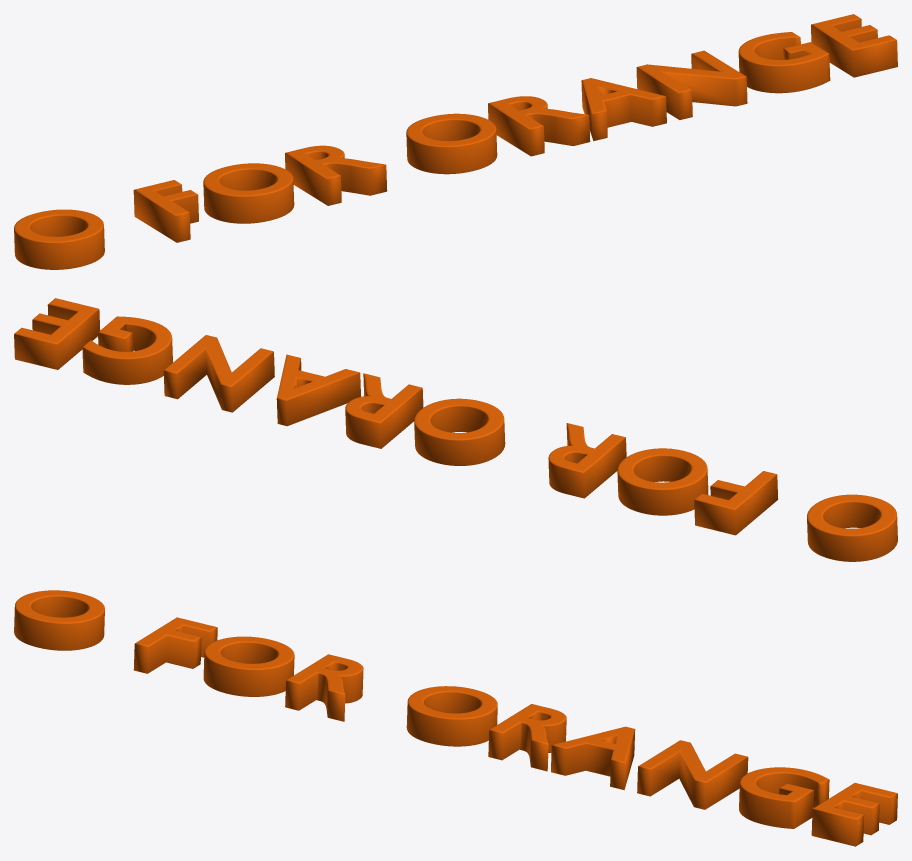
Rendered from ORANGE.fbx.
3 renders of one model, top to bottom at view 1: azimuth 30°, elevation 25°; view 2: azimuth 150°, elevation 25°; view 3: azimuth 330°, elevation 25°, orthographic.
Parts seen in each view (by area): view 1: Text.002; view 2: Text.002; view 3: Text.002.
Boxes of the visible parts, box(x1,y1,x2,y2) form: Text.002: box(14, 14, 897, 269); Text.002: box(14, 298, 897, 561); Text.002: box(14, 590, 897, 846).
Size of the model in its own units: 846 by 30.47 by 75.37.
